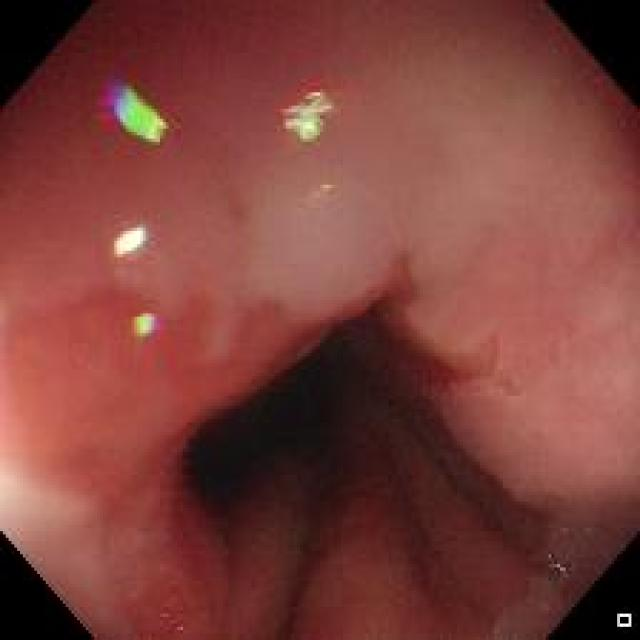blur: (4, 285, 288, 599)
color misalignment: (95, 81, 170, 147), (282, 84, 341, 143), (132, 311, 165, 342), (548, 552, 571, 574), (309, 182, 332, 200), (618, 614, 632, 628), (175, 627, 191, 637)
contrast: (196, 333, 375, 511)
specularity: (112, 225, 148, 261)
